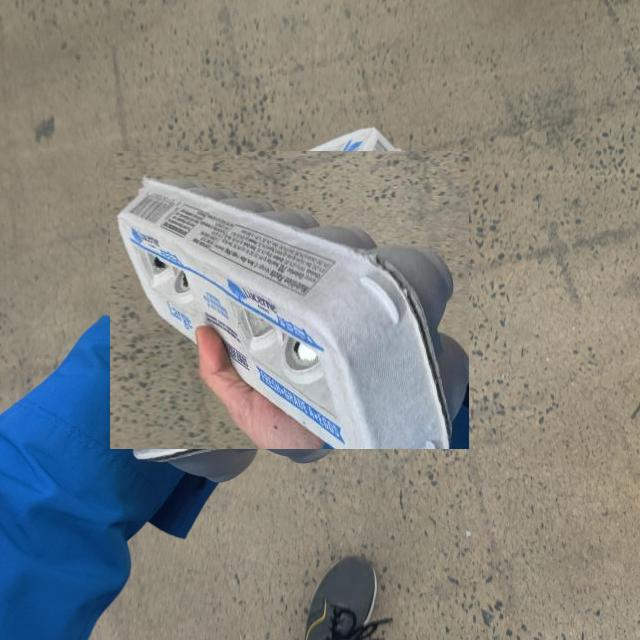Eggs: (110, 150, 469, 449)
